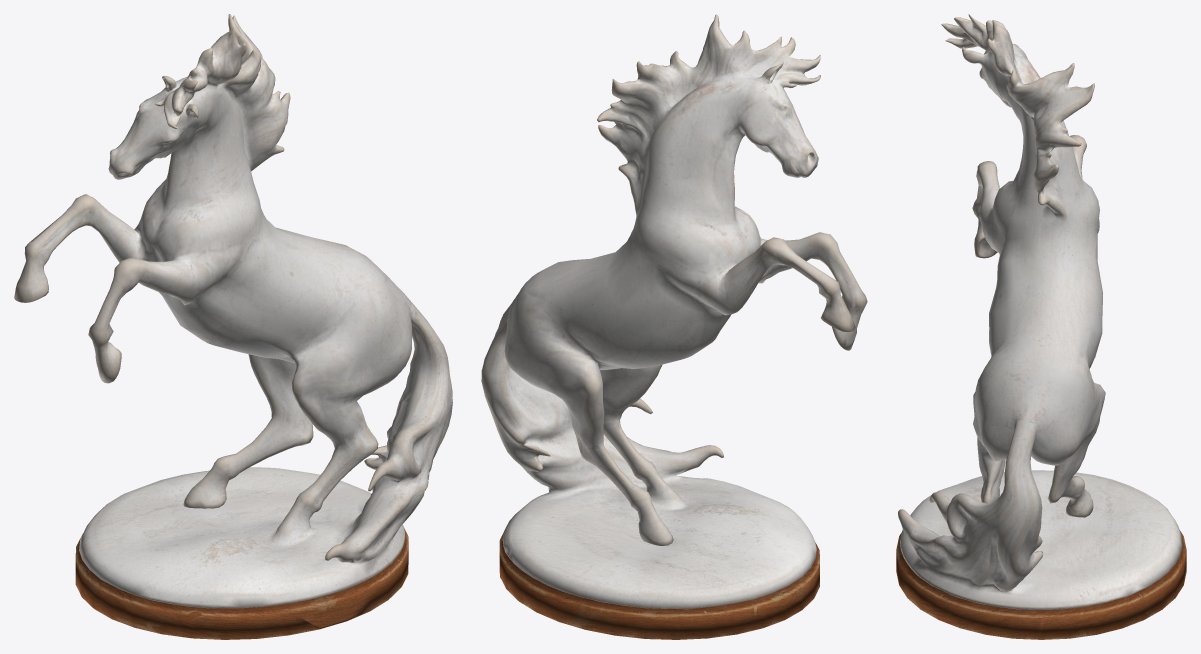
The model's file is horse_statue_01.glb.
3 renders of one model, left to right at view 1: azimuth 30°, elevation 25°; view 2: azimuth 150°, elevation 25°; view 3: azimuth 270°, elevation 25°, orthographic. The views are drawn at different scales.
Visible parts, largest first — view 1: horse_statue_01; view 2: horse_statue_01; view 3: horse_statue_01.
Part boxes in pixels (box(x1,y1,x2,y2)): horse_statue_01: box(14, 14, 452, 639); horse_statue_01: box(481, 14, 867, 639); horse_statue_01: box(896, 14, 1186, 639).
Size of the model in its own units: 0.1638 by 0.22 by 0.1078.
Materials: 1 (1 with a texture image).
